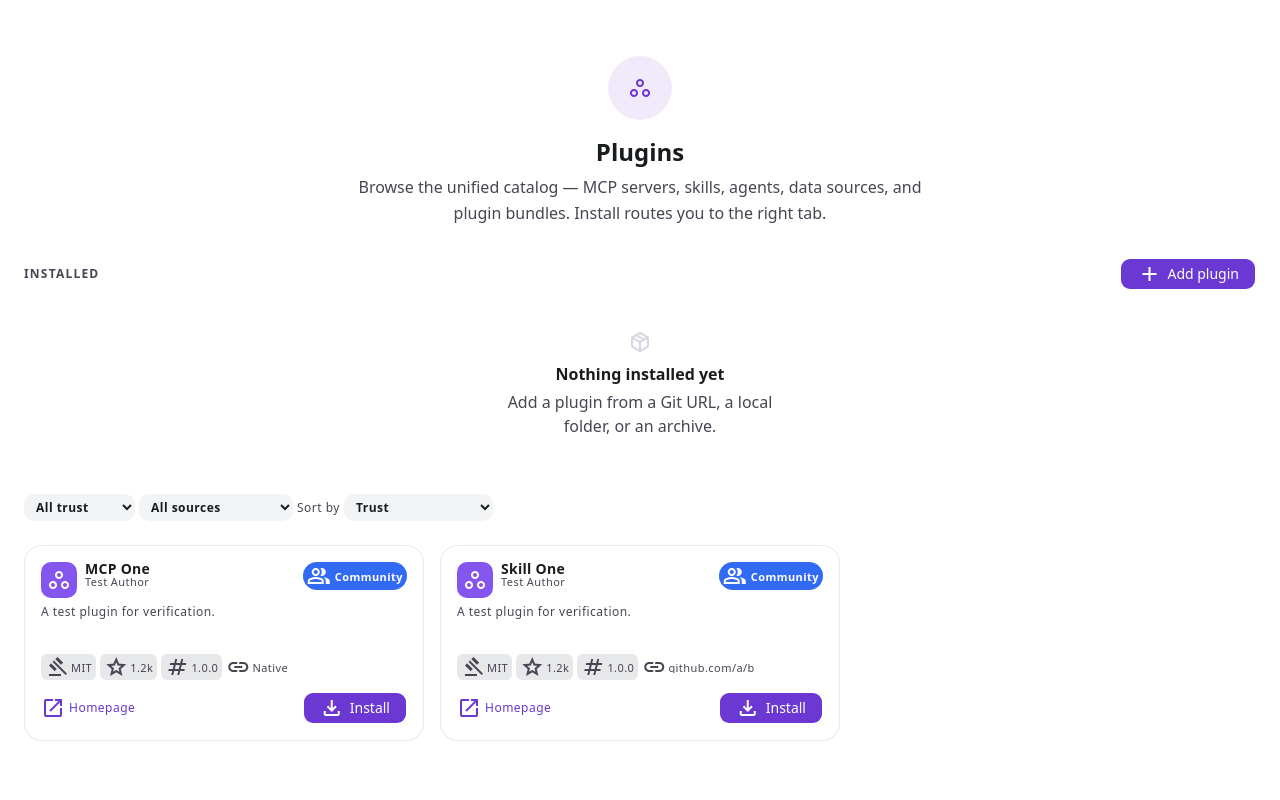
Scenario: Plugins (marketplace browser) › filters by source when the Source dropdown changes
The width and height of the screenshot is (1280, 800).
Expected: the heading "Skill One" is shown, [501, 562, 565, 576]
Select "Native" in the dropdown named "Source": (216, 508) [139, 494, 293, 521]
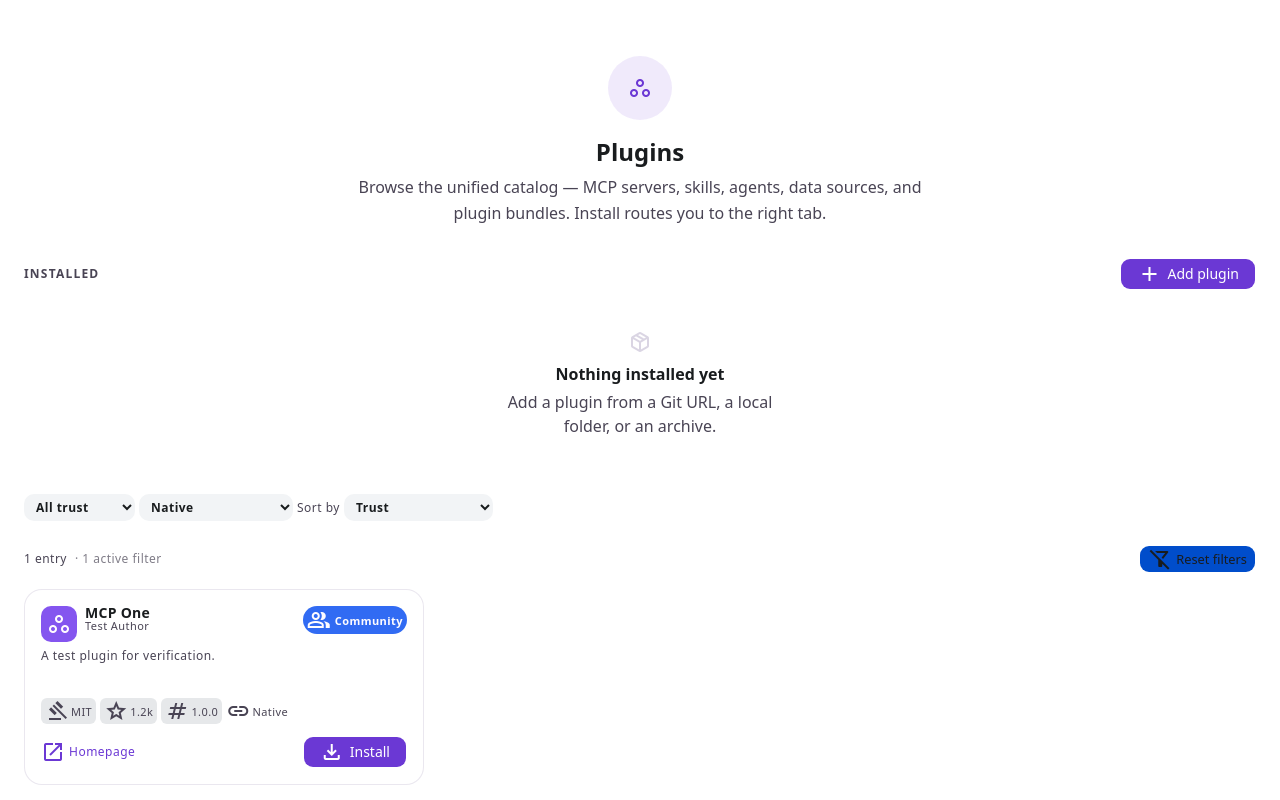
Expected: the heading "MCP One" is shown, [85, 606, 150, 620]
Result: the heading "Skill One" is gone
